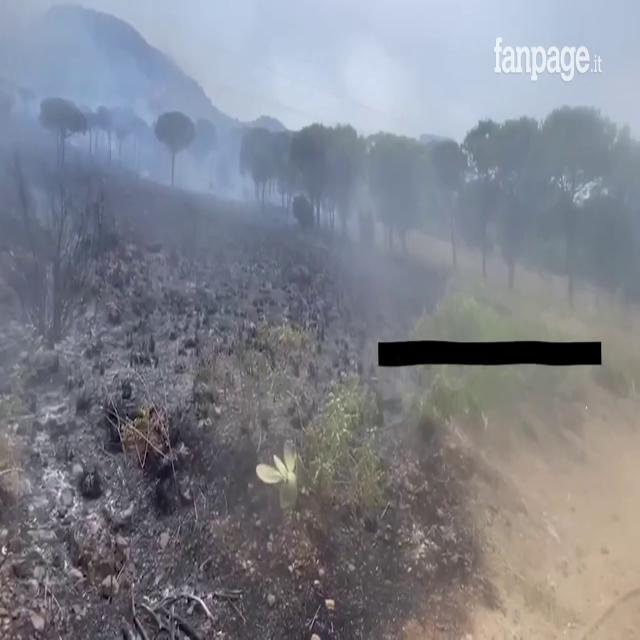Smoke: (319, 60, 640, 340), (117, 83, 284, 214)
